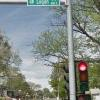Traffic light: (57, 51, 94, 100)
